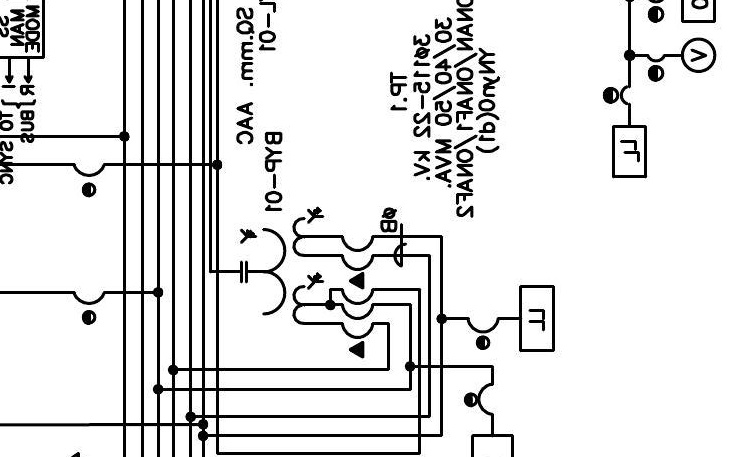115_cvt_3p: (240, 206, 325, 326)
LL: (519, 285, 555, 352), (612, 125, 648, 178)
v_m: (680, 37, 718, 74)
